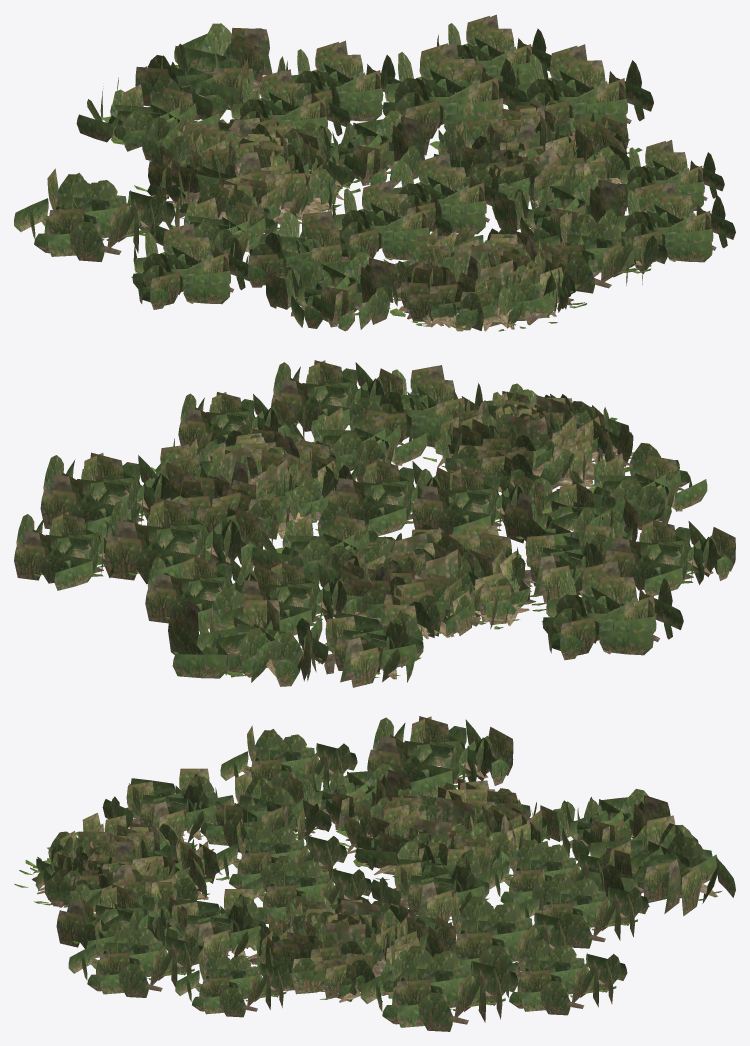
The model's file is Meadow_Grass_01_Var5.FBX.
The picture shows the model from 3 angles, top to bottom: view 1: azimuth 30°, elevation 25°; view 2: azimuth 150°, elevation 25°; view 3: azimuth 270°, elevation 25°; orthographic projection. The views are drawn at different scales.
Visible parts, largest first — view 1: Meadow_Grass_01_Var5_LOD0; view 2: Meadow_Grass_01_Var5_LOD0; view 3: Meadow_Grass_01_Var5_LOD0.
Boxes of the visible parts, <box> form: Meadow_Grass_01_Var5_LOD0: <box>14,14,735,331</box>; Meadow_Grass_01_Var5_LOD0: <box>14,360,735,687</box>; Meadow_Grass_01_Var5_LOD0: <box>14,716,735,1031</box>.
Size of what is drawn, in the model's own units: 517 by 40.78 by 546.
